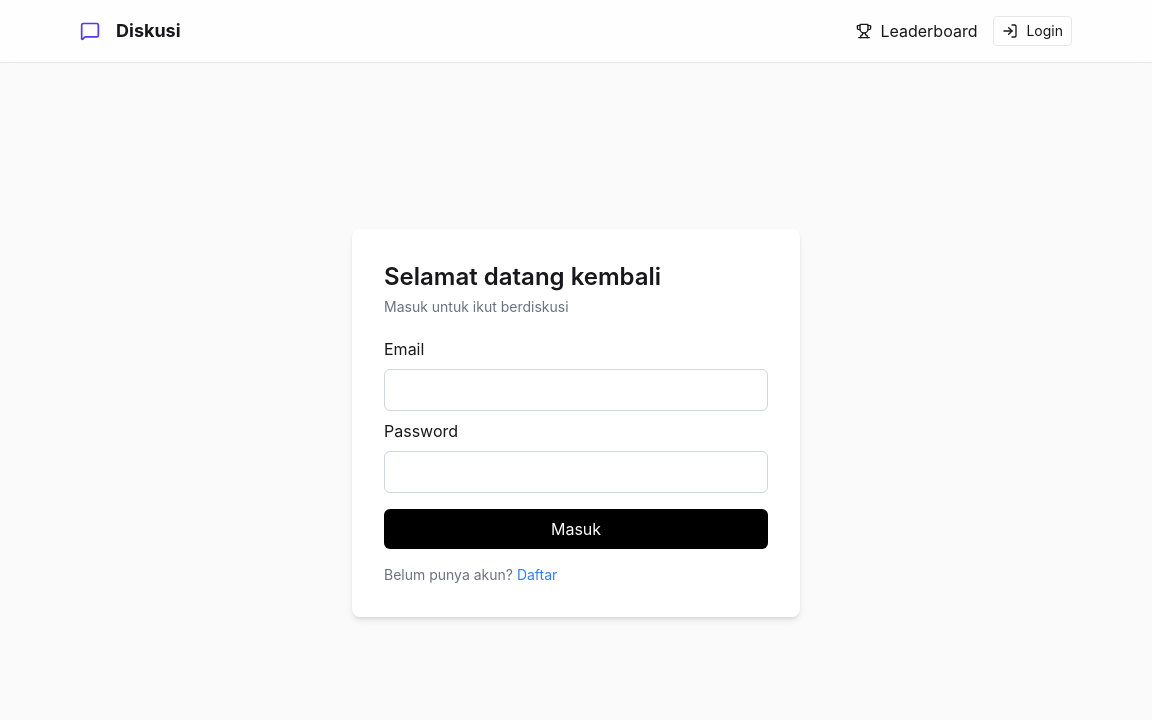
Test: Login spec › should display error toast if email and password are wrong
In the field labelled "Email": (576, 390) [384, 369, 768, 411], type "email@mail.com"
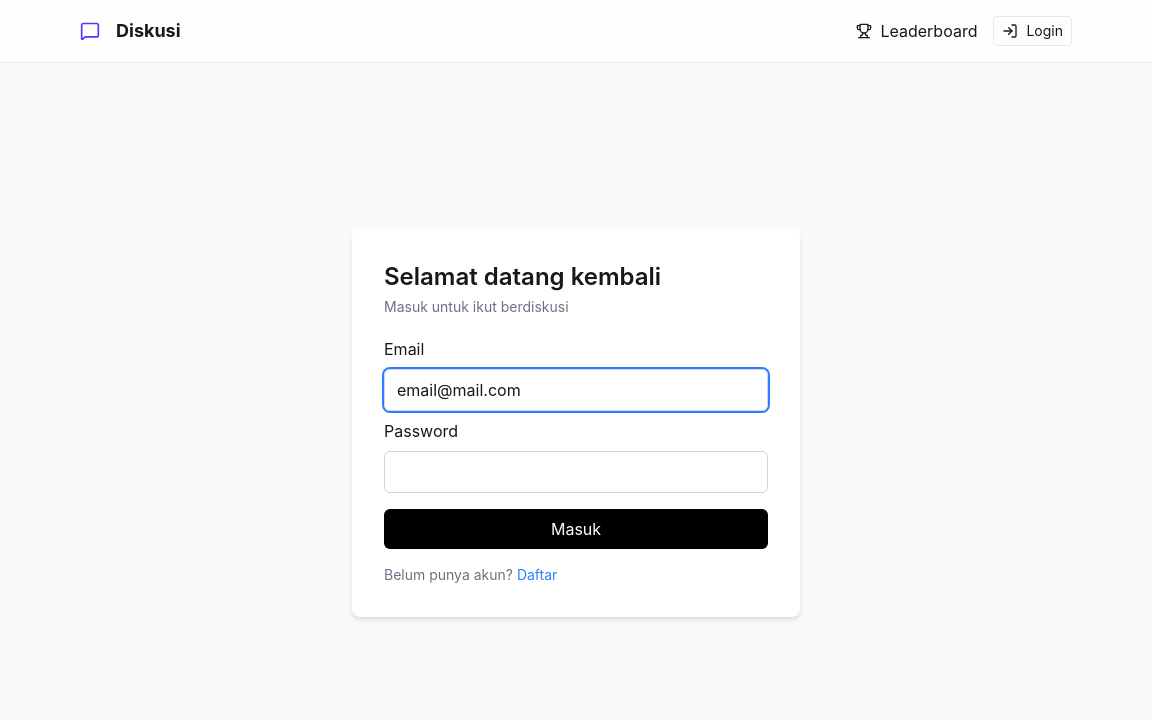
In the password field labelled "Password": (576, 472) [384, 451, 768, 493], type "123"
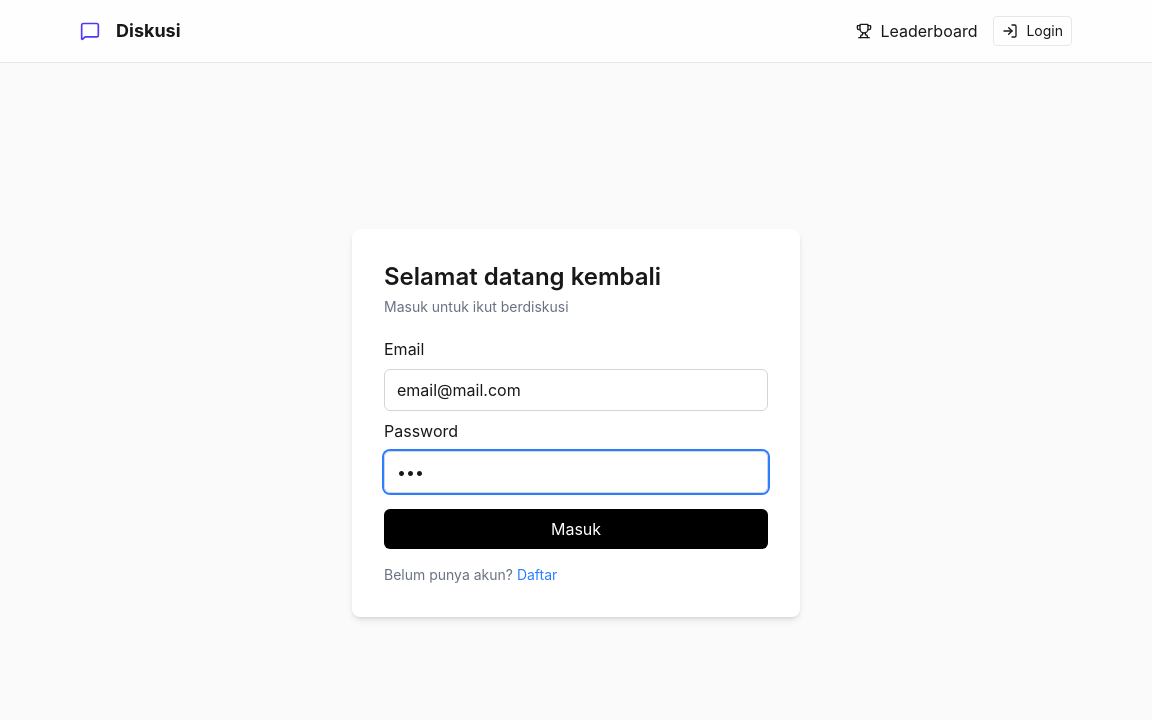
Click the submit button: (576, 529) [384, 509, 768, 549]
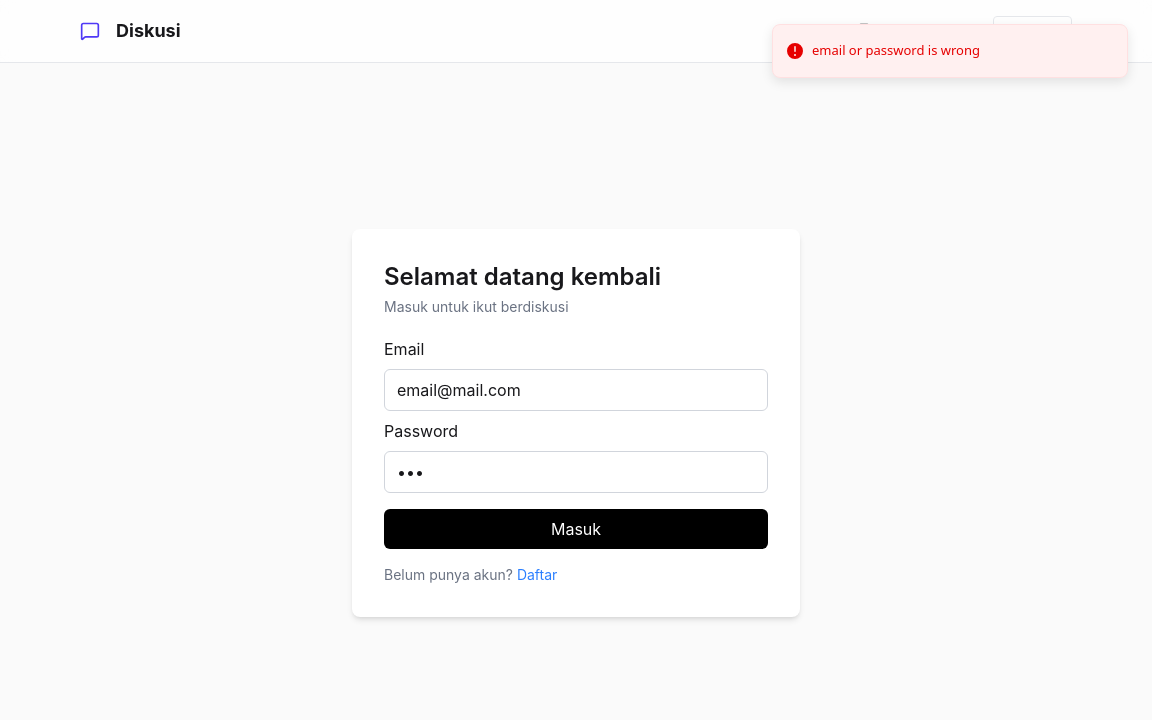
Expected: the list item "email or password is wrong" is shown, [772, 24, 1128, 78]
Expected: the text "email or password is wrong" is shown, [812, 41, 980, 60]
